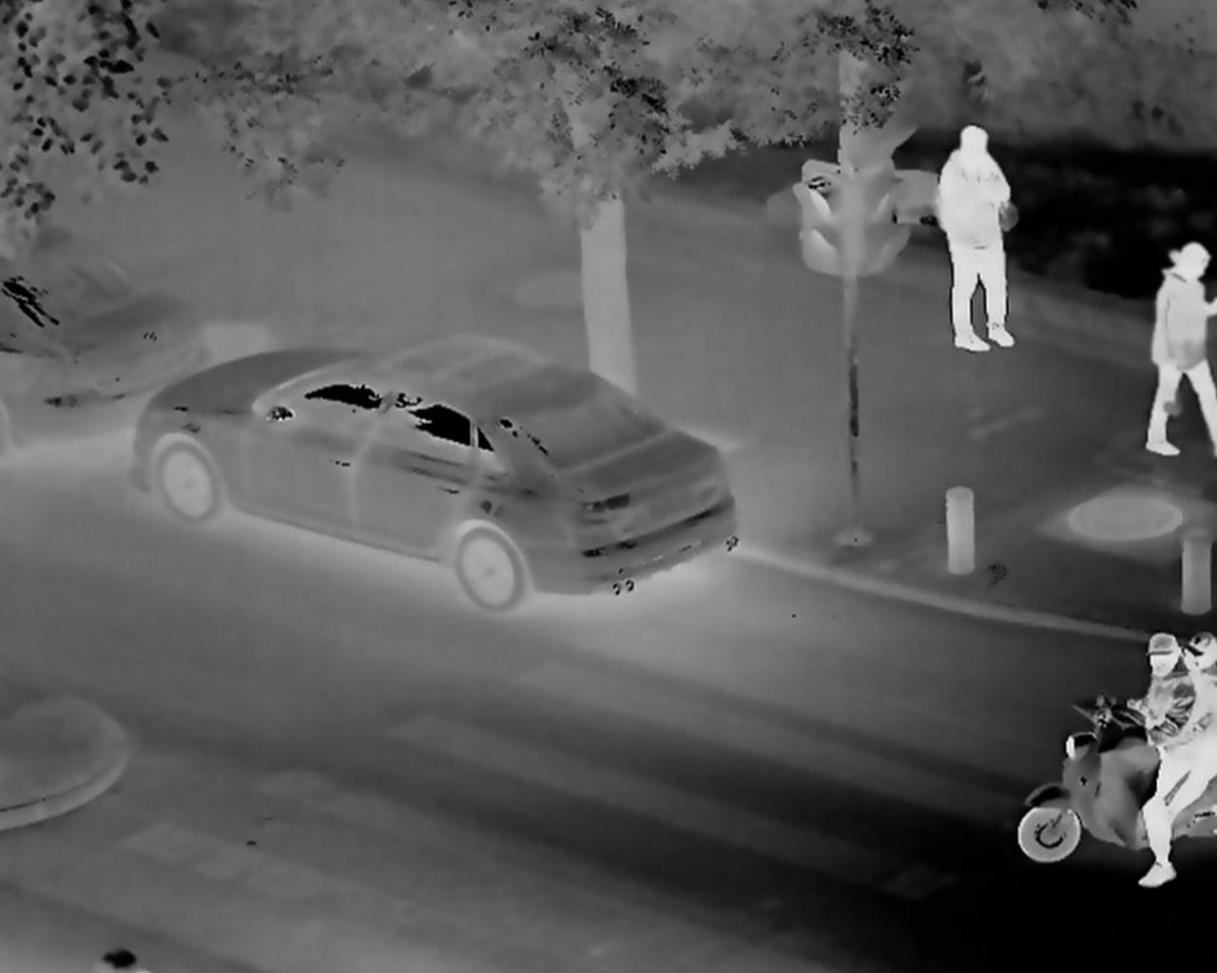person: (935, 119, 1028, 353), (1132, 635, 1217, 884), (1134, 244, 1217, 453)
